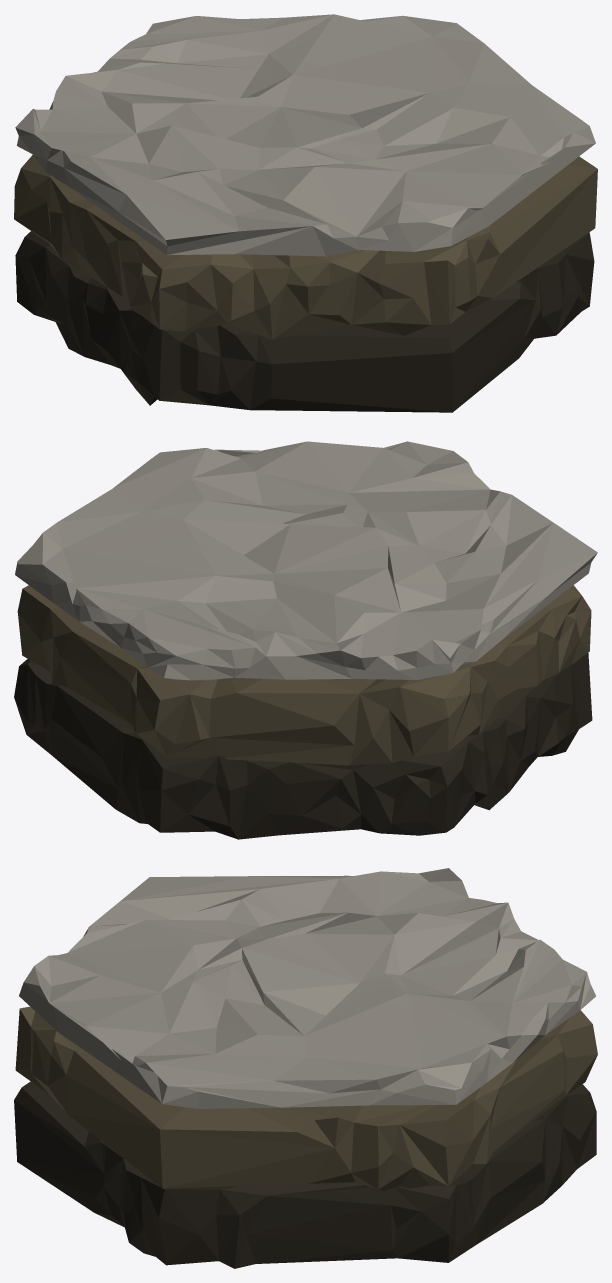
The model's file is stone1.fbx.
3 renders of one model, top to bottom at view 1: azimuth 30°, elevation 25°; view 2: azimuth 150°, elevation 25°; view 3: azimuth 270°, elevation 25°, orthographic.
Visible parts, largest first — view 1: stone1; view 2: stone1; view 3: stone1.
Boxes of the visible parts, <box> form: stone1: <box>14,14,597,412</box>; stone1: <box>14,441,597,839</box>; stone1: <box>14,868,597,1268</box>.
Size of the model in its own units: 984 by 461 by 1125.
